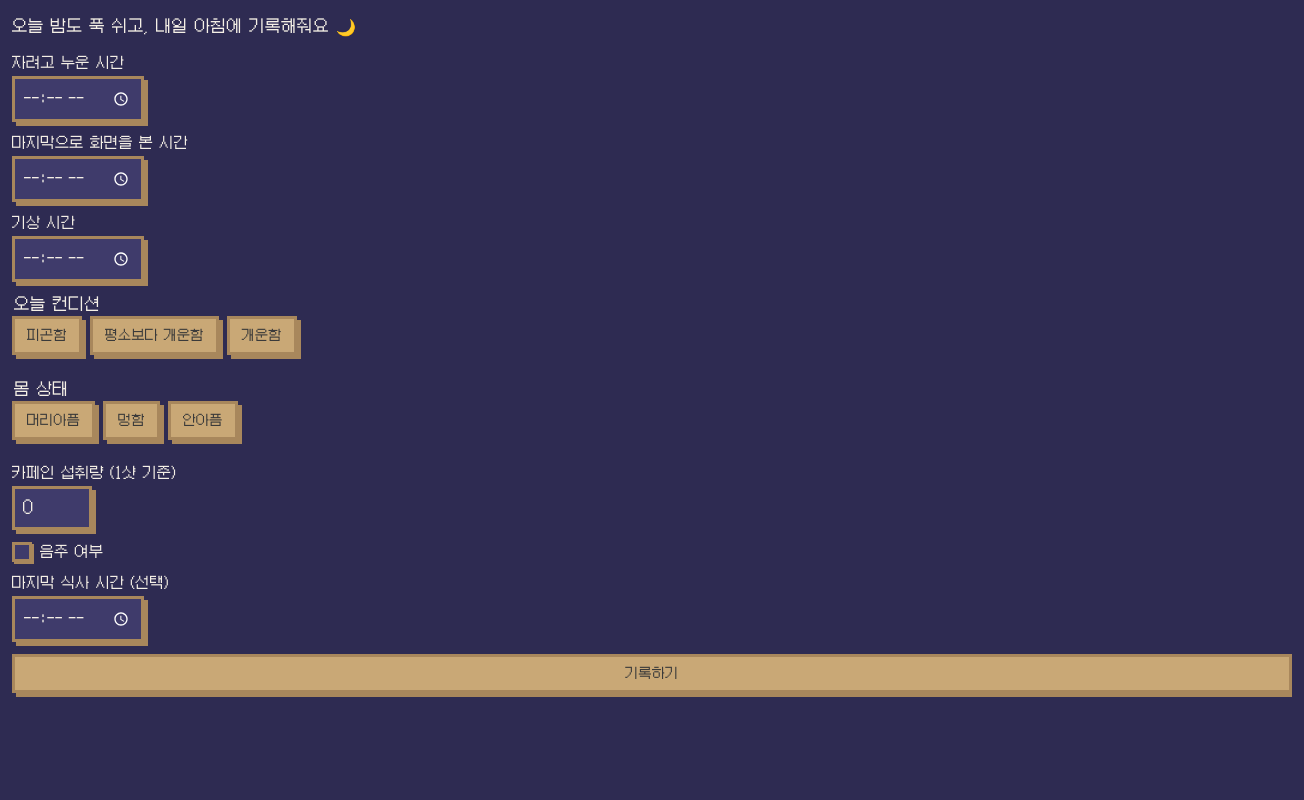
Test case: TodayPage › saves a new entry and shows the summary after submitting the form
Type "23:00" into the time field labelled "자려고 누운 시간" at (78, 99), box left=12, top=76, right=144, bottom=122
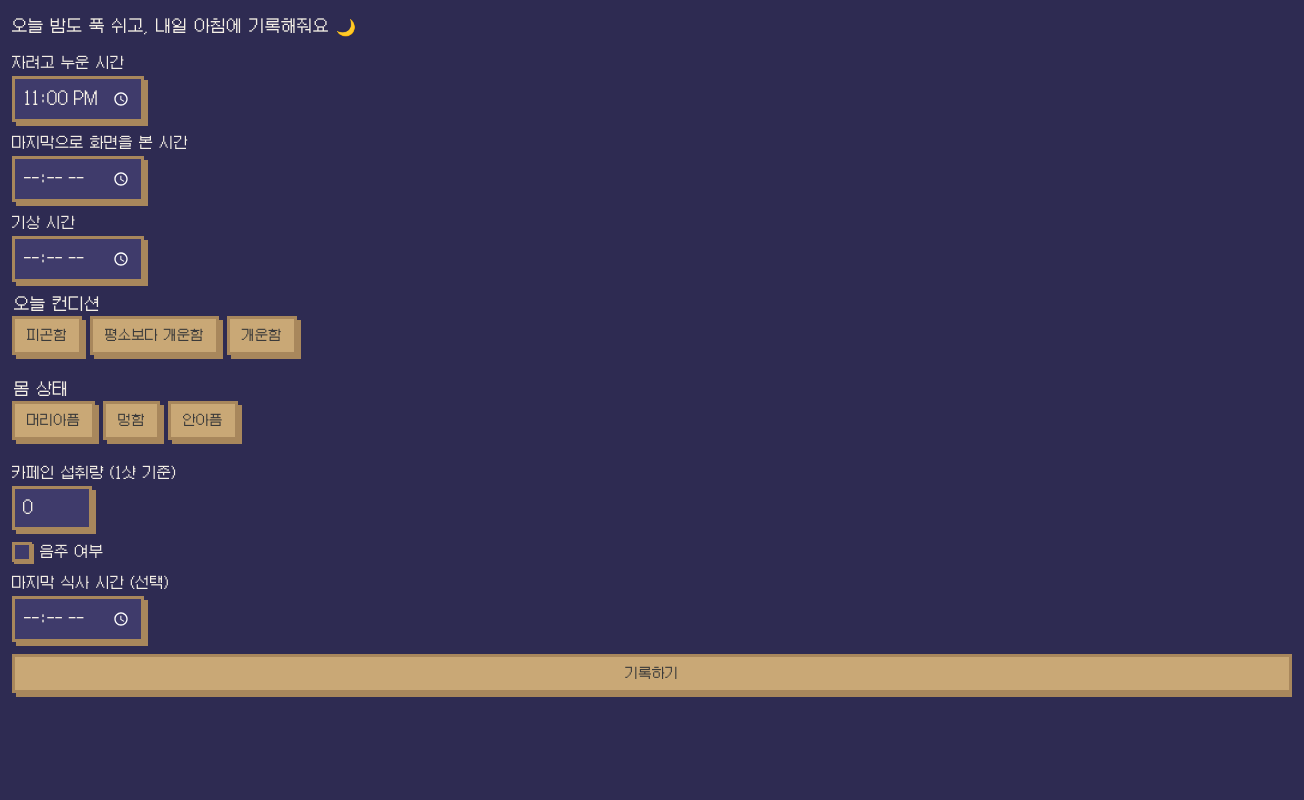
Type "23:30" into the time field labelled "마지막으로 화면을 본 시간" at (78, 179), box left=12, top=156, right=144, bottom=202
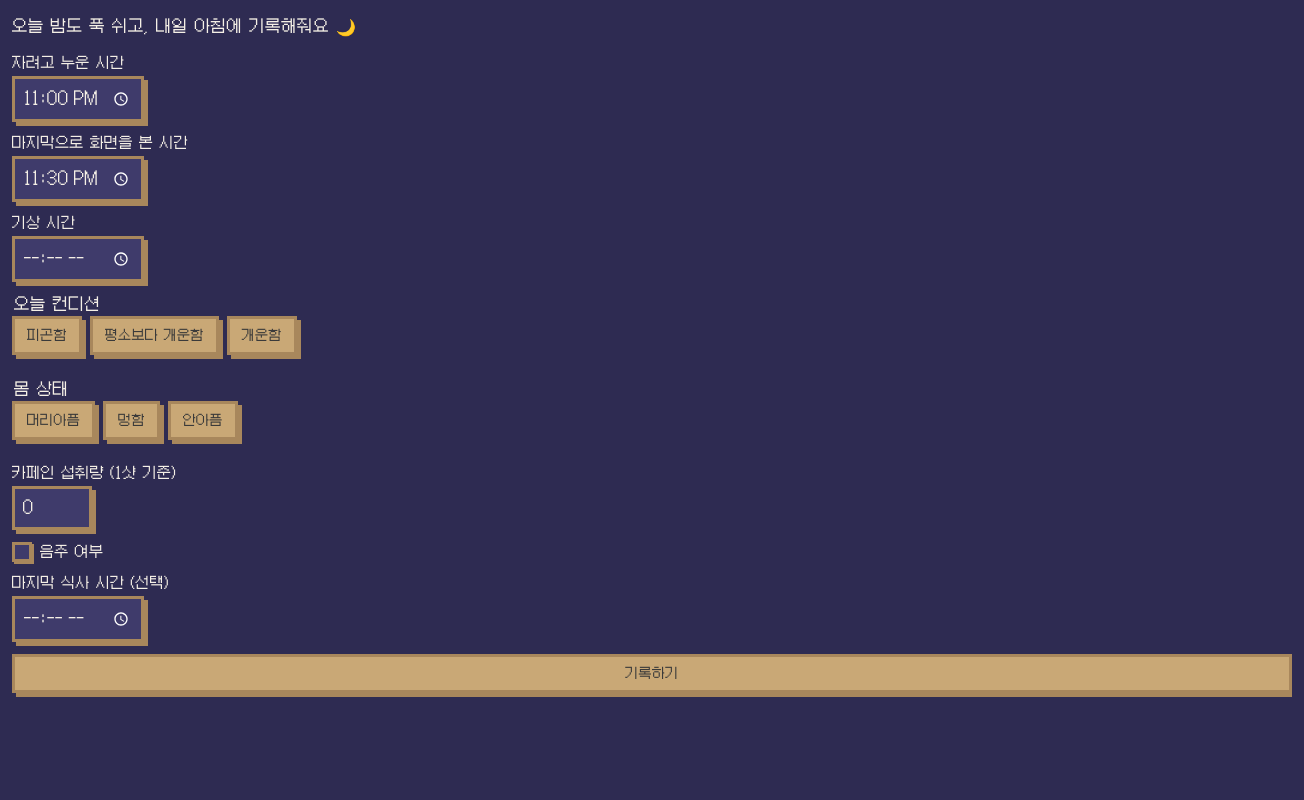
Type "07:00" into the time field labelled "기상 시간" at (78, 259), box left=12, top=236, right=144, bottom=282
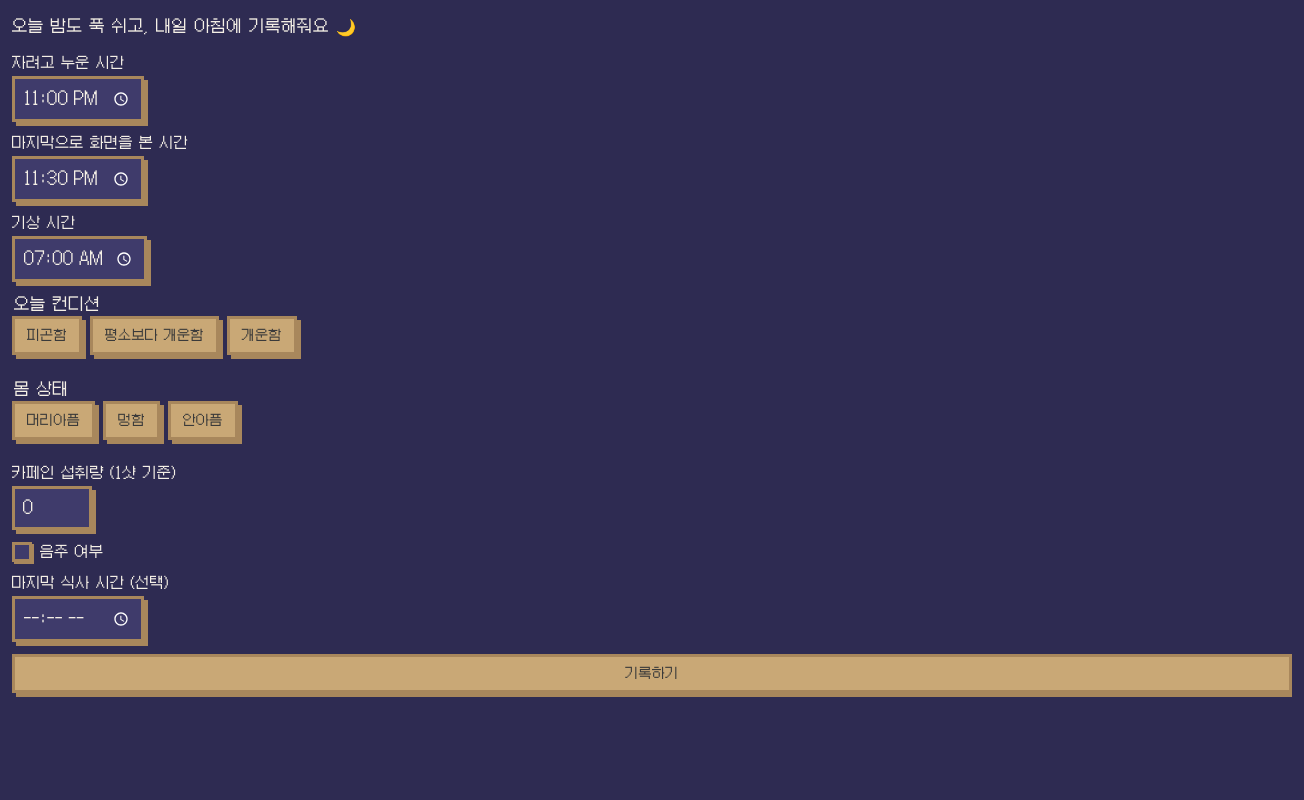
Click the button "개운함" at (262, 336), box left=227, top=316, right=297, bottom=355
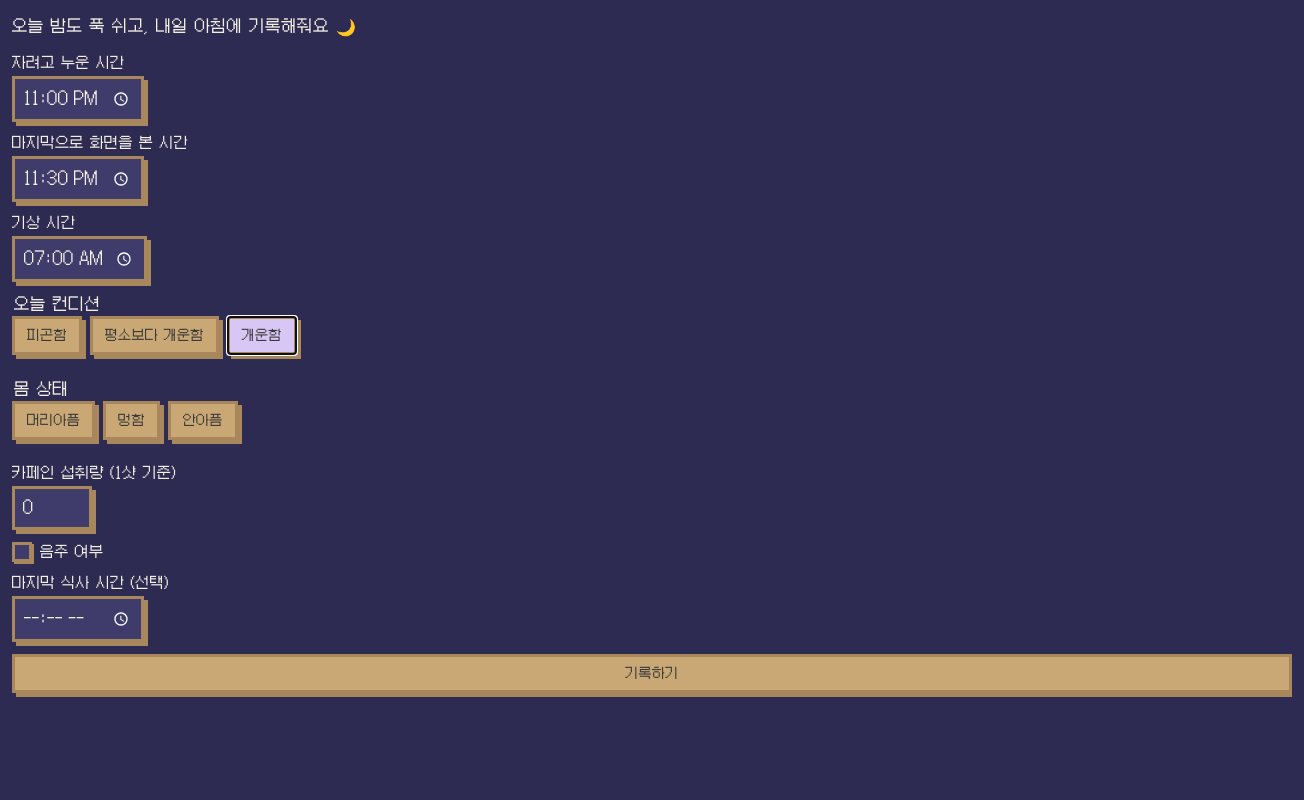
Click the button "안아픔" at (203, 420), box left=168, top=401, right=238, bottom=440
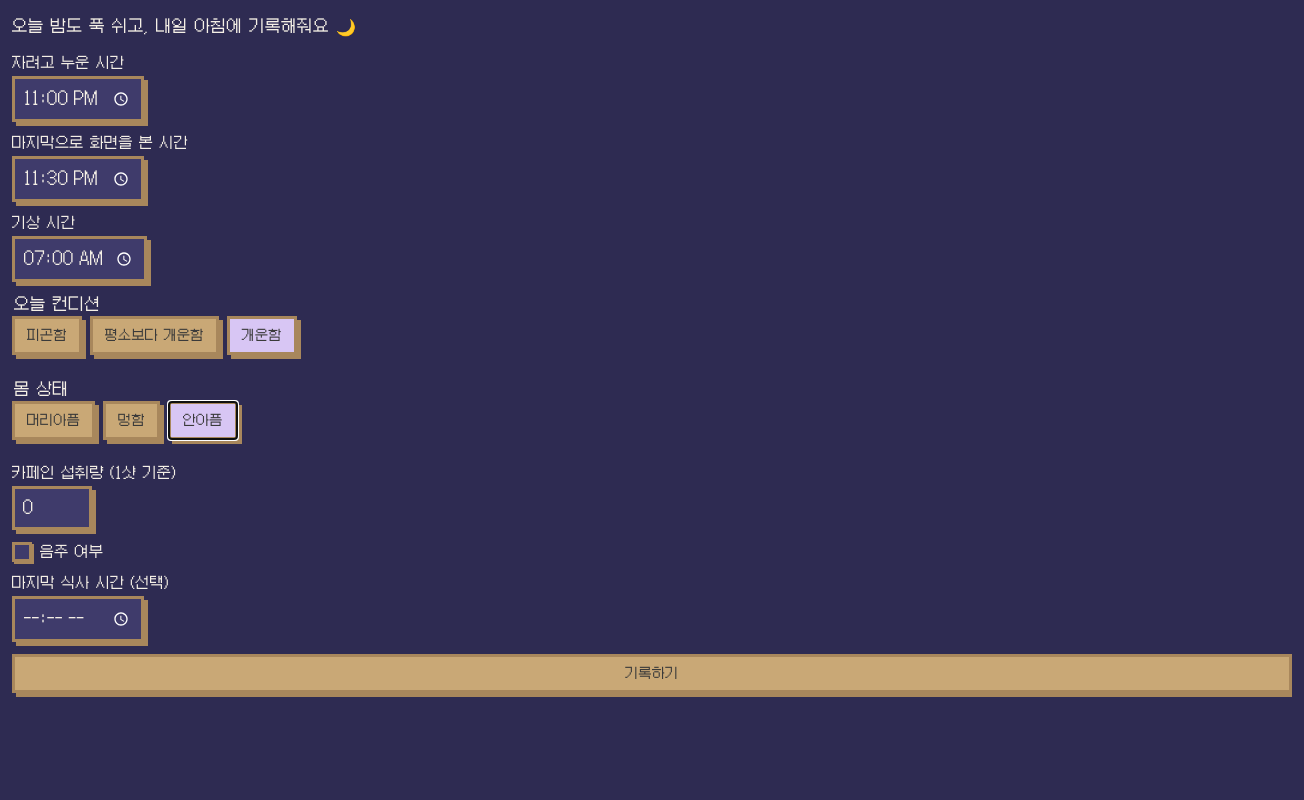
Click the button "기록하기" at (652, 674), box left=12, top=654, right=1292, bottom=693
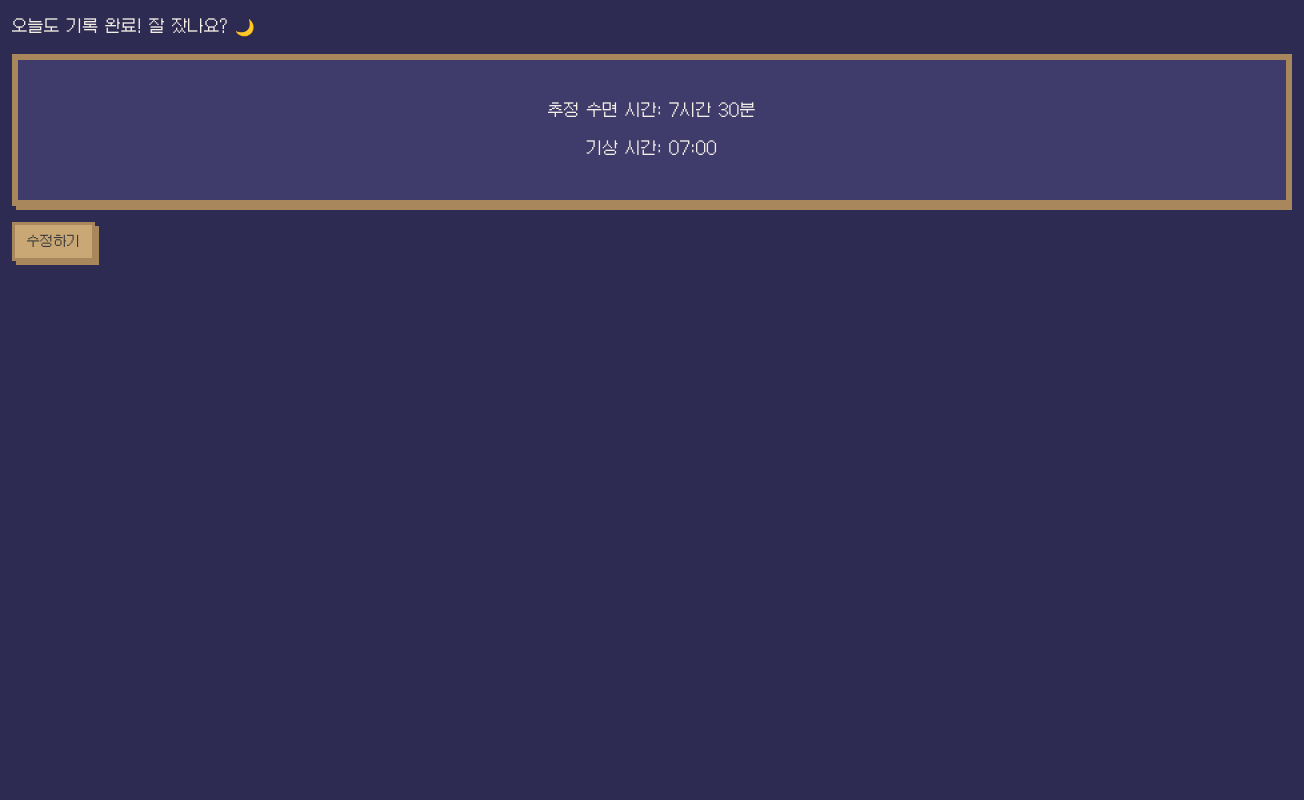
Expected: the text "오늘도 기록 완료! 잘 잤나요? 🌙" is shown, left=12, top=17, right=255, bottom=36
